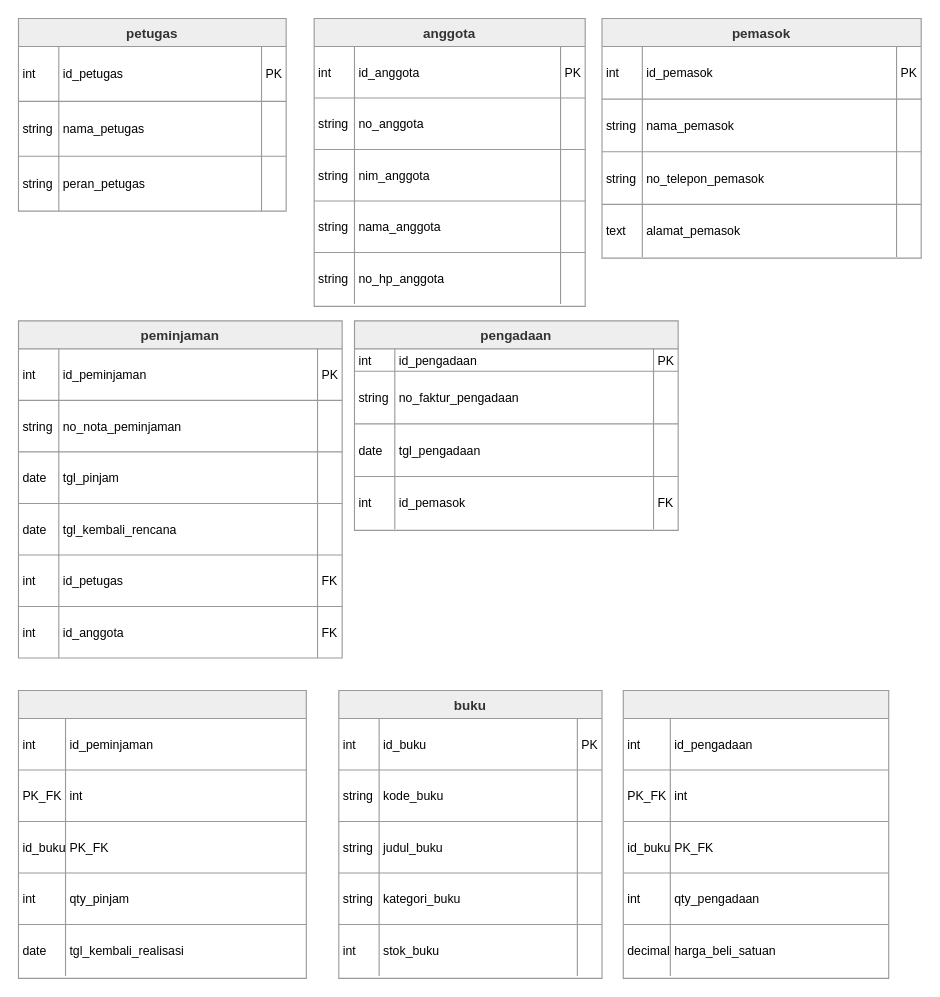
This 940x997 diagram has some shape labels left out. The box of each missing label's shape, as (x1, y1, x2, y2) in pixels:
detail_peminjaman: (17, 689, 306, 978)
detail_pengadaan: (622, 689, 889, 978)
